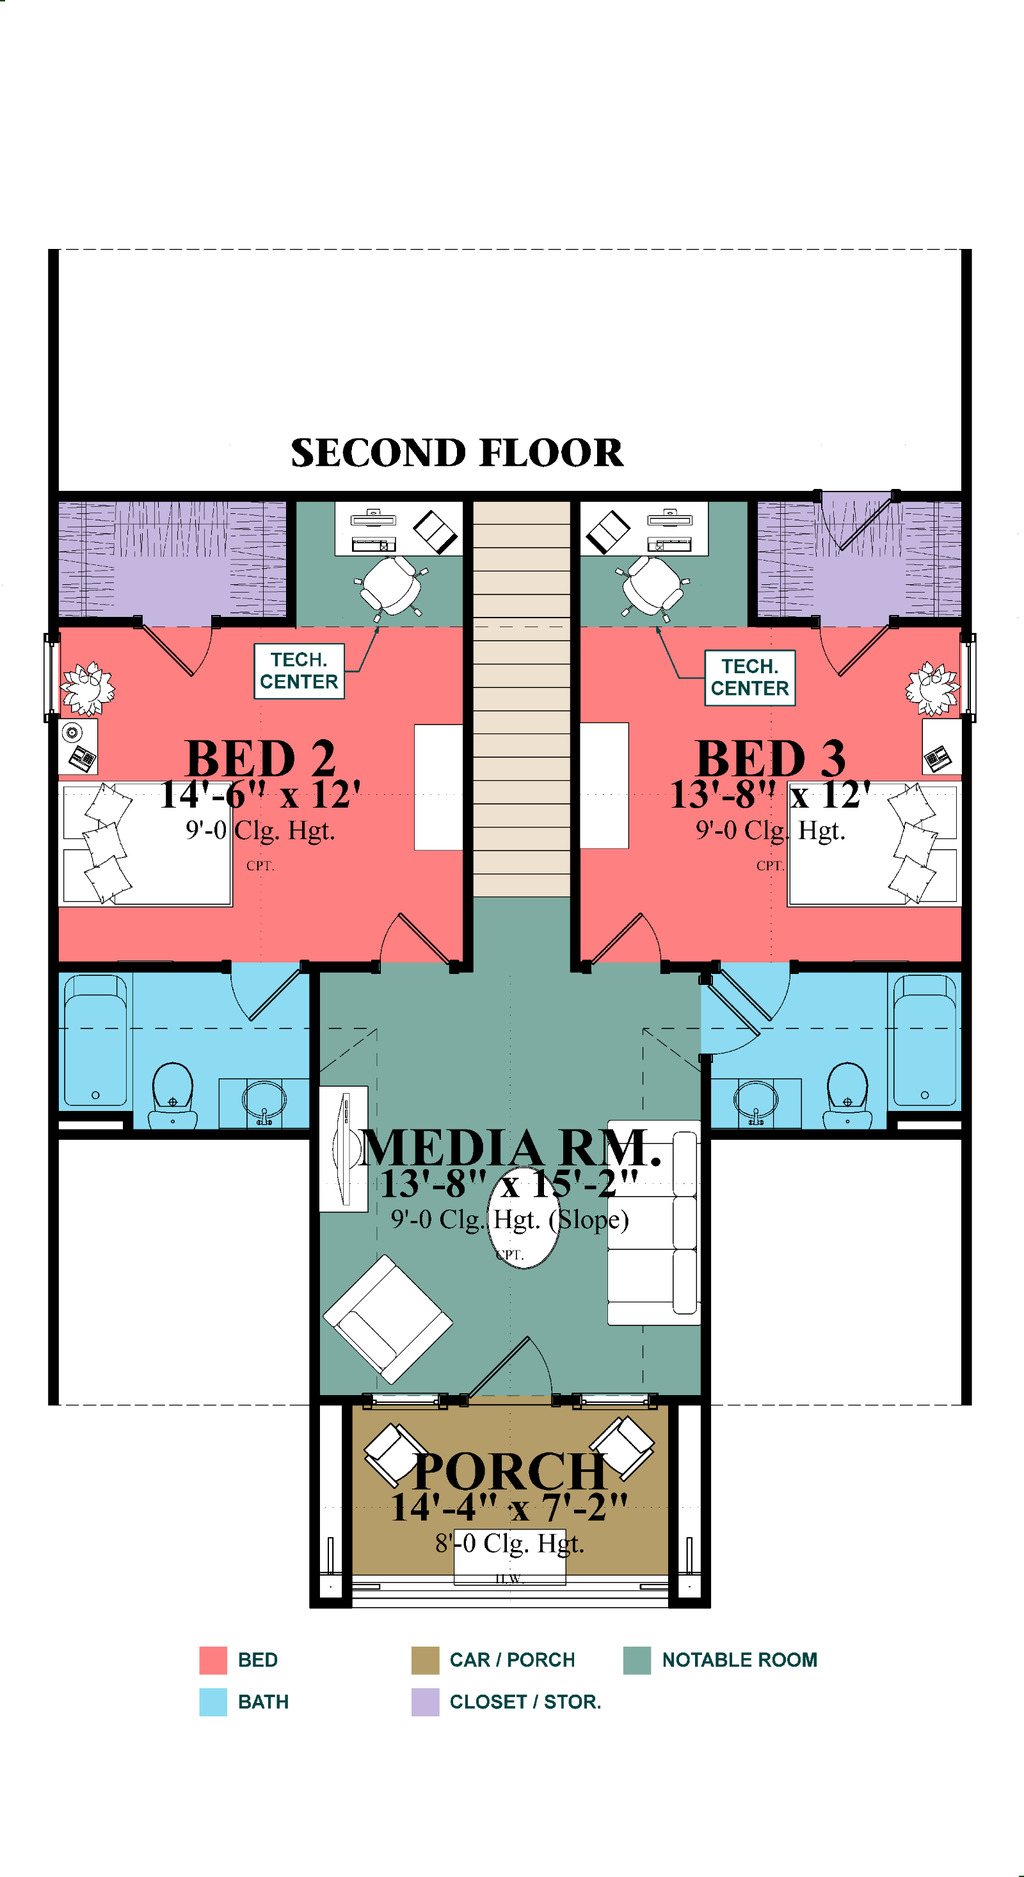bed: (763, 758, 969, 910), (45, 755, 243, 910)
door: (219, 937, 308, 1025), (475, 1340, 584, 1411), (711, 934, 800, 1019), (593, 908, 690, 974), (372, 913, 469, 974), (694, 978, 760, 1060), (808, 613, 884, 674), (155, 616, 219, 681)
large_sink: (131, 1049, 224, 1143), (805, 1049, 866, 1131)
large_sofa: (581, 1111, 719, 1325)
small_sink: (696, 1053, 796, 1135), (243, 1069, 311, 1131)
small_sofa: (308, 1252, 467, 1387)
stairs: (462, 493, 586, 916)
tub: (43, 966, 146, 1119), (875, 969, 963, 1131)
